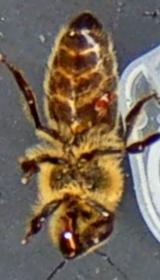varroa_mite: (88, 83, 114, 117)
